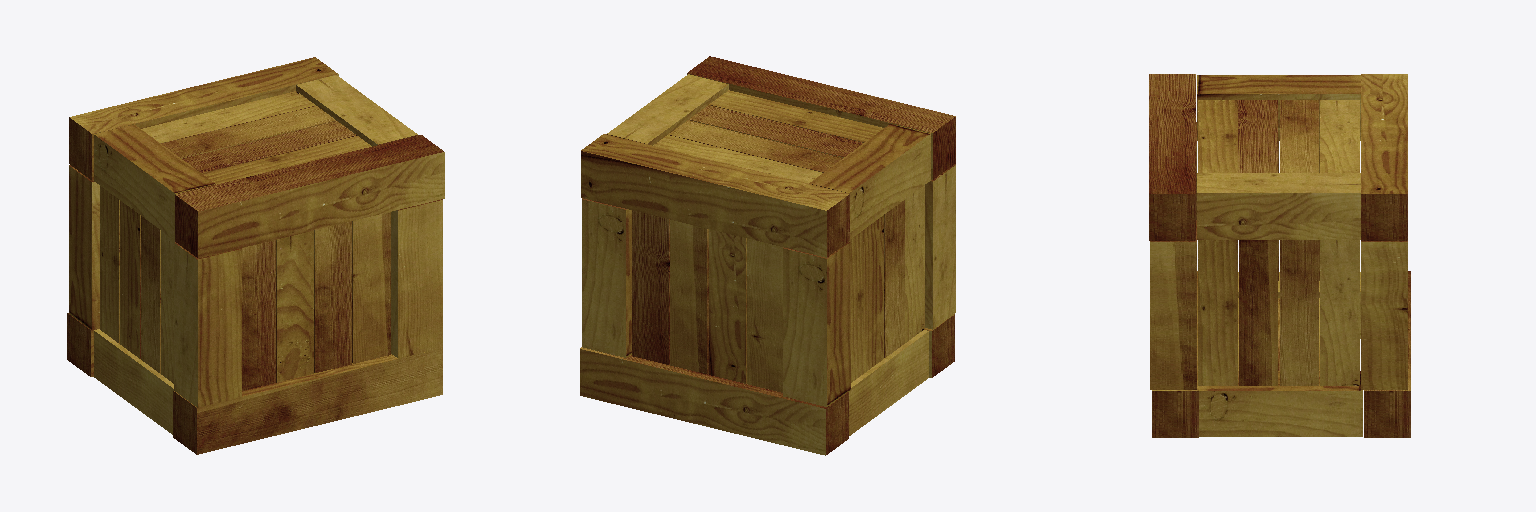
3 renders of one model, left to right at view 1: azimuth 30°, elevation 25°; view 2: azimuth 150°, elevation 25°; view 3: azimuth 270°, elevation 25°, orthographic.
Parts seen in each view (by area): view 1: Crate.1433_Cube.1790; view 2: Crate.1433_Cube.1790; view 3: Crate.1433_Cube.1790.
Boxes of the visible parts, x1,y1,x2,y2 form: Crate.1433_Cube.1790: [67, 57, 444, 454]; Crate.1433_Cube.1790: [580, 56, 955, 455]; Crate.1433_Cube.1790: [1149, 74, 1410, 437].
Bounding box in the file's own units: 1.22 × 1.15 × 1.12.
1 materials, 1 textured.